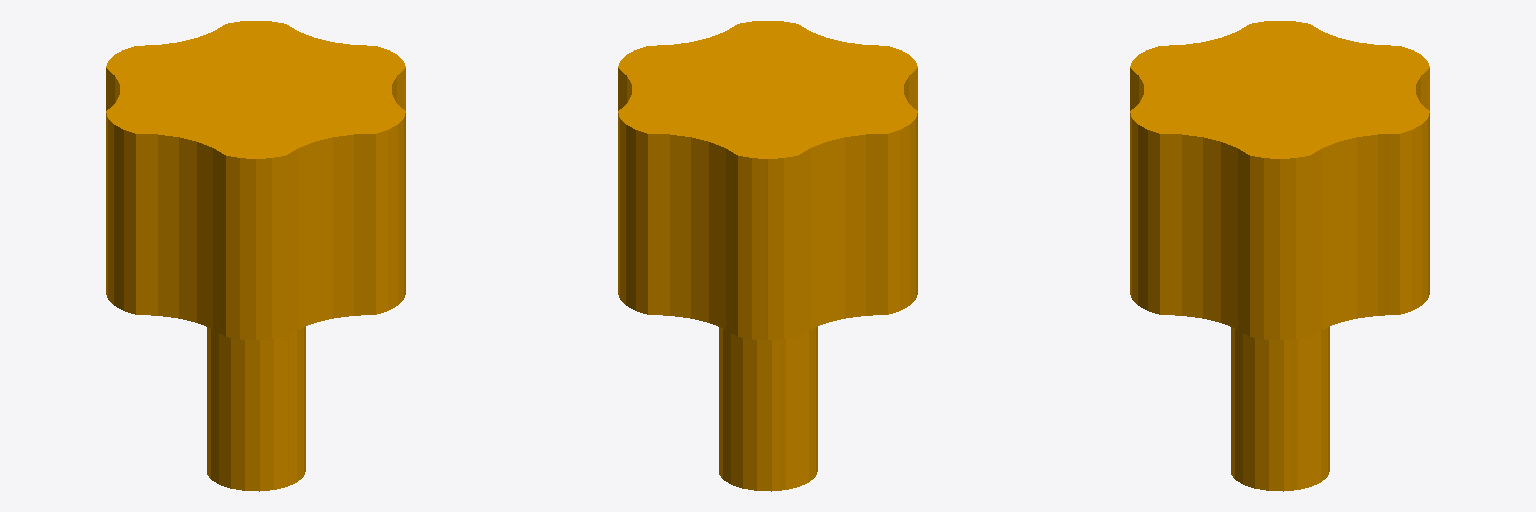
The robot description file, URDF, robot "00271_plug":
<?xml version="1.0"?>
<robot name="00271_plug">
	<link name="00271_plug">
		<visual>
			<geometry>
				<mesh filename="../mesh/00271/asset_plug.obj"/>
			</geometry>
		</visual>
		<collision>
			<geometry>
				<mesh filename="../mesh/00271/asset_plug.obj"/>
			</geometry>
			<sdf resolution="256"/>
		</collision>
	</link>
</robot>

--- What the picture shows (computed from the rendered views, not written in the file) ---
3 views of the same robot in one strip: view 1: azimuth 30°, elevation 25°; view 2: azimuth 150°, elevation 25°; view 3: azimuth 270°, elevation 25° (orthographic).
Robot: 00271_plug — 1 links, 0 joints (none); root link 00271_plug; default pose: all joints at 0.
Links seen in each view (by area): view 1: 00271_plug; view 2: 00271_plug; view 3: 00271_plug.
Boxes of the visible links, x1,y1,x2,y2 form: 00271_plug: (106, 21, 405, 491); 00271_plug: (618, 21, 917, 491); 00271_plug: (1130, 21, 1429, 491).
Size in the robot's own frame: 0.0327 by 0.0299 by 0.0418 metres.
1 mesh visuals loaded from 1 distinct referenced files (1 OBJ).
